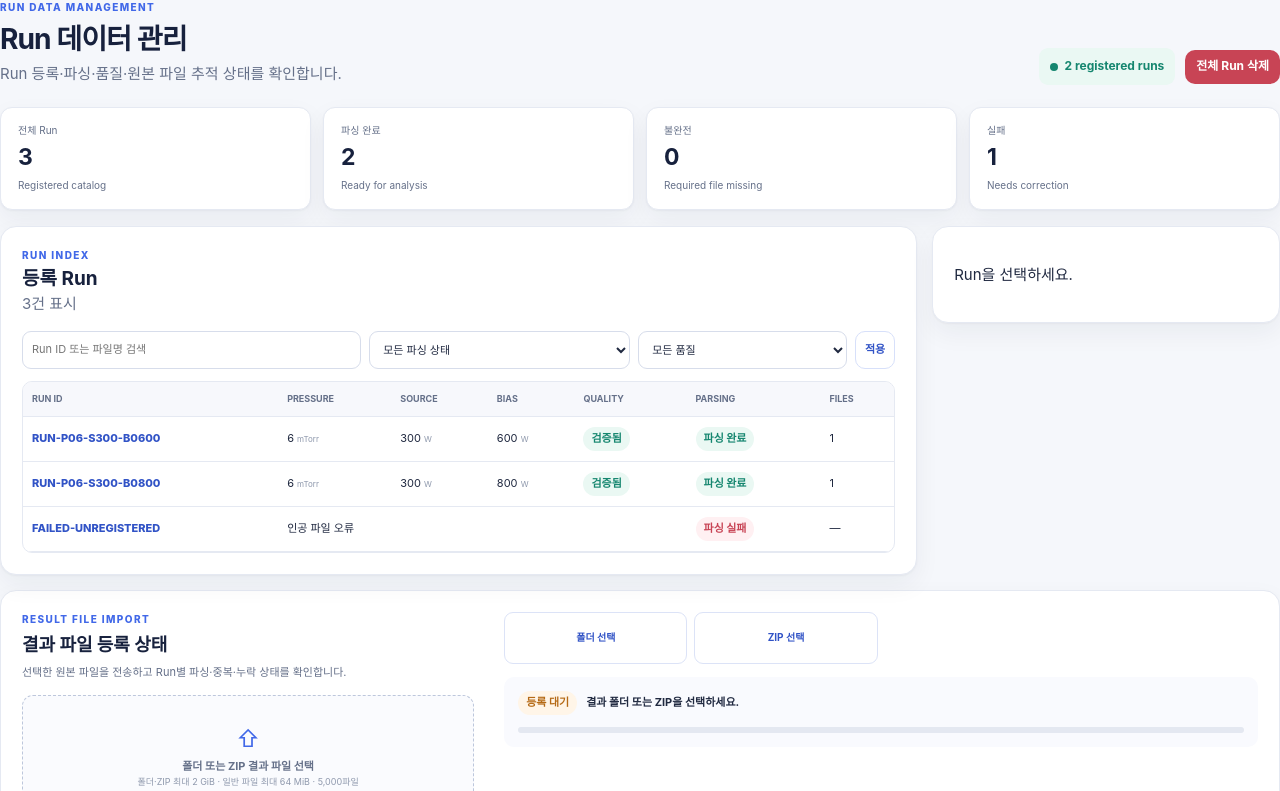
Test: cleanup pending reports completed database removal and restart cleanup without restoring the Run
This screenshot has width=1280, height=791.
Click the button "RUN-P06-S300-B0600". click: {"x": 96, "y": 439}
box: [32,430,160,447]
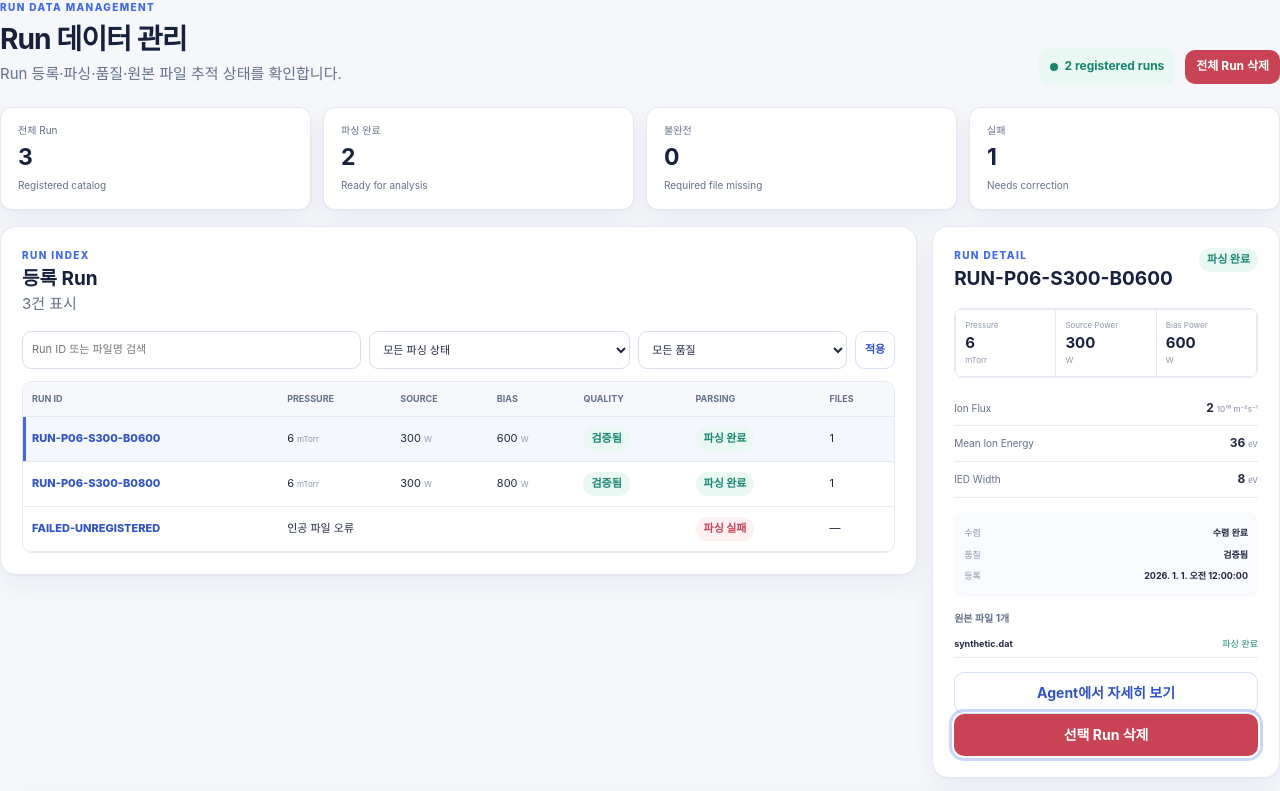
Click the button "선택 Run 삭제". click: {"x": 1106, "y": 735}
box: [954,714,1258,756]
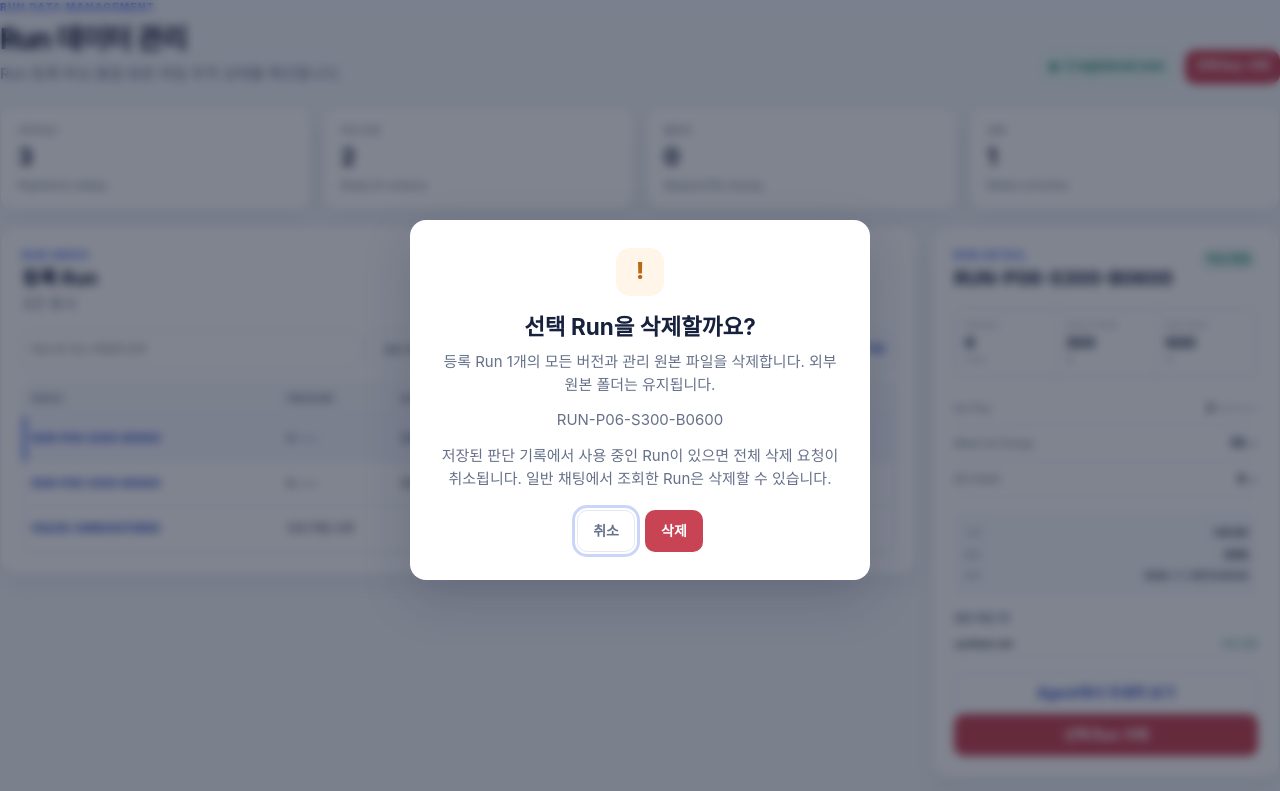
Click the button "삭제". click: {"x": 674, "y": 531}
box: [645,510,703,552]
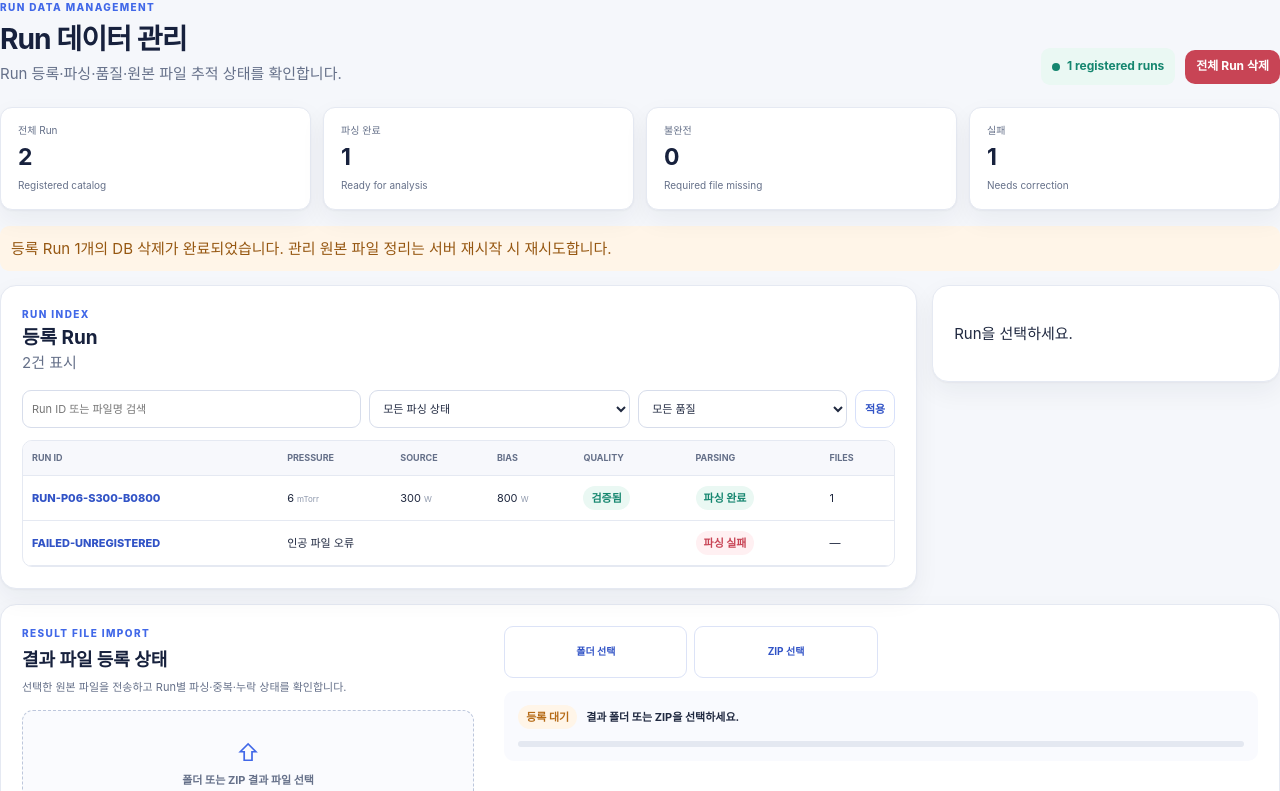
expect the dialog is gone: met
expect the message reads "등록 Run 1개의 DB 삭제가 완료되었습니다. 관리 원본 파일 정리는 서버 재시작 시 재시도합니다.": met, box [11,239,612,258]
expect the button "RUN-P06-S300-B0600" is gone: met
